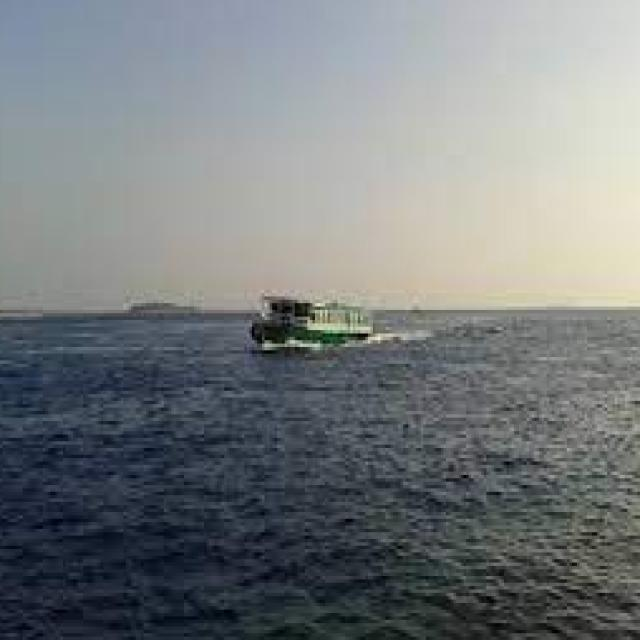houseboat: (239, 284, 386, 372)
